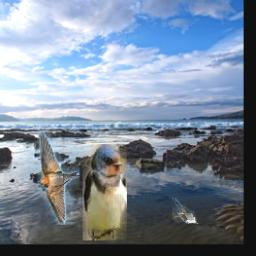Cuckoo: (173, 199, 199, 225)
Swallow: (84, 145, 128, 241), (38, 131, 81, 225)
